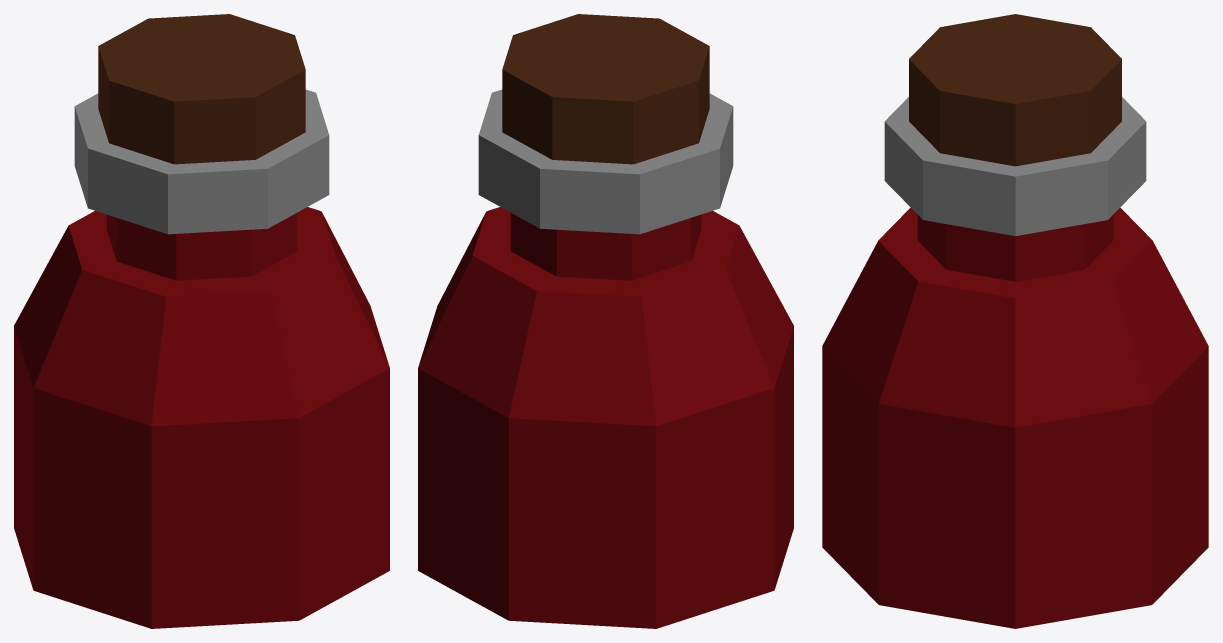
File: potion_type_03.fbx
3 renders of one model, left to right at view 1: azimuth 30°, elevation 25°; view 2: azimuth 150°, elevation 25°; view 3: azimuth 270°, elevation 25°, orthographic.
Visible parts, largest first — view 1: potion_type_03; view 2: potion_type_03; view 3: potion_type_03.
Part boxes in pixels (<box>): potion_type_03: <box>14,14,389,628</box>; potion_type_03: <box>418,14,793,628</box>; potion_type_03: <box>822,14,1208,628</box>.
Size of the model in its own units: 8.82 by 12.29 by 8.82.
